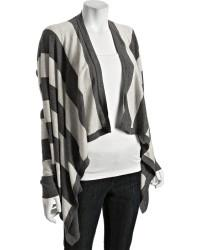S_cardigan sweater: (19, 16, 172, 223)
